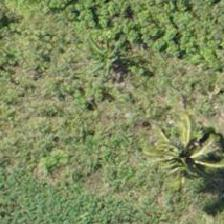coconut_tree: (145, 109, 223, 199)
